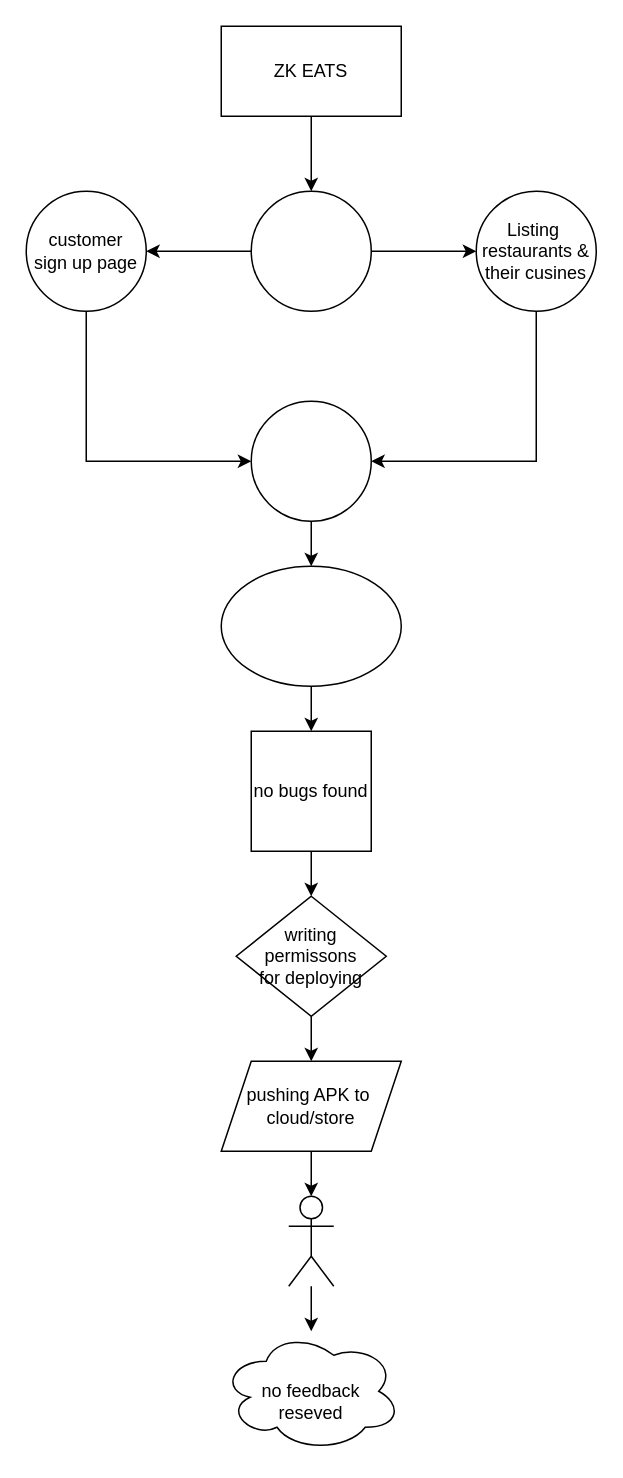
Some shapes in this 623 by 1478 pixel diagram are drawn without their labels. The centre of each missing label's shape, as x and y in pixels:
Checkout page & RTS: pixel 310 460
Compiling into apk: pixel 310 625
customer: pixel 310 1240
Design UI/UX: pixel 310 250
